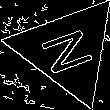N_E: (34, 22, 100, 78)
